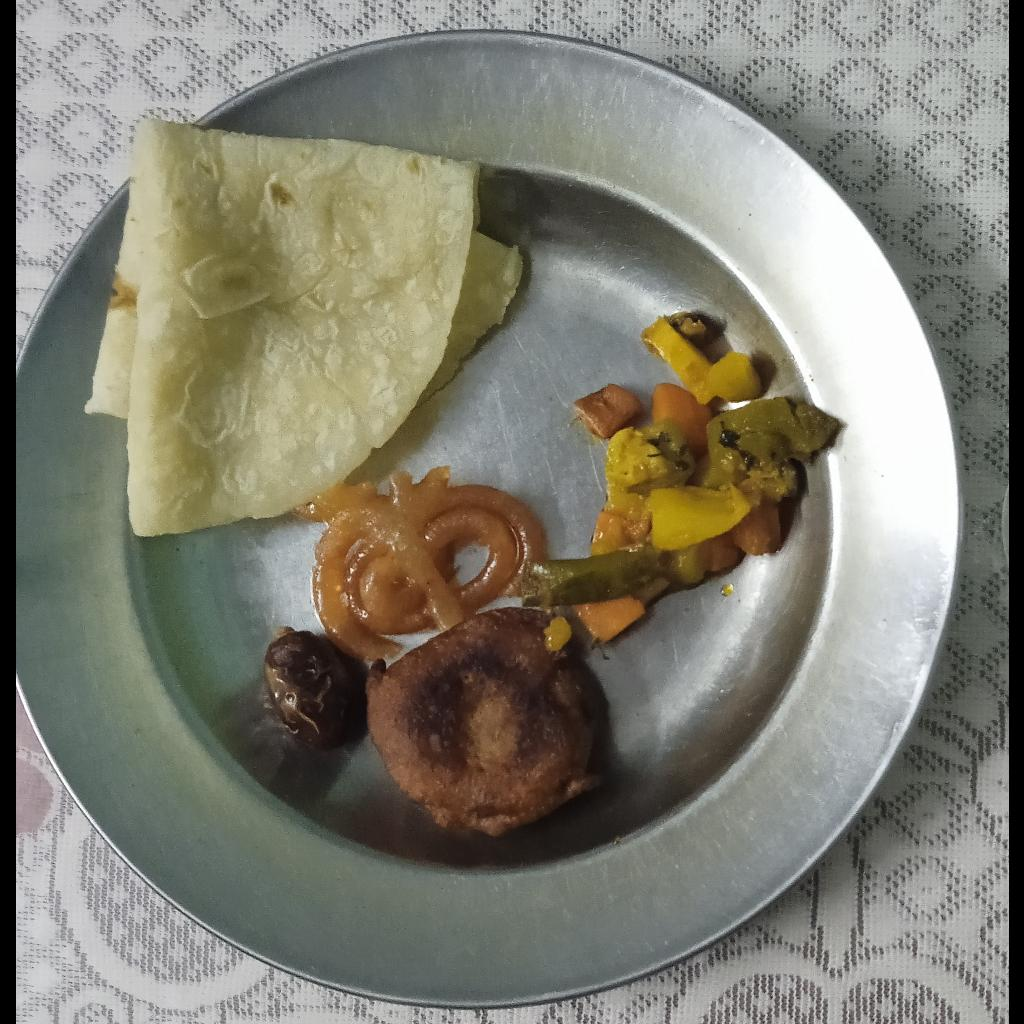chop-alu: (365, 608, 599, 837)
dates: (262, 626, 353, 749)
jilapi: (298, 466, 550, 662)
ruti: (81, 120, 523, 539)
vegetable: (525, 318, 837, 643)
